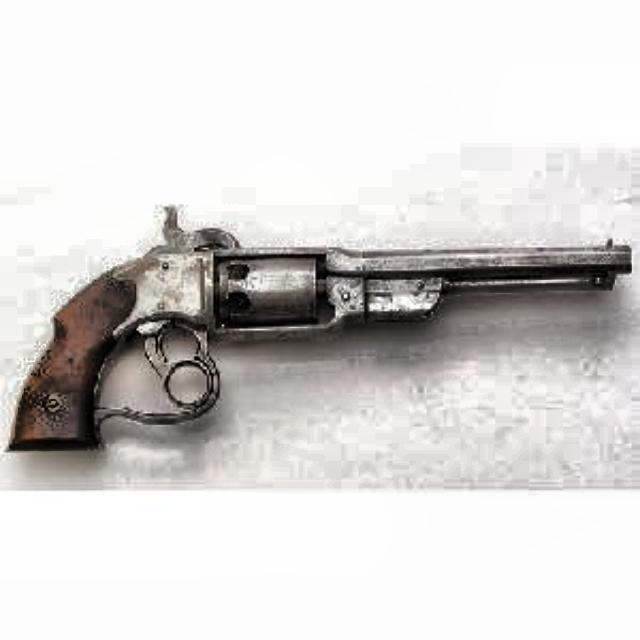pistol: (2, 216, 630, 450)
